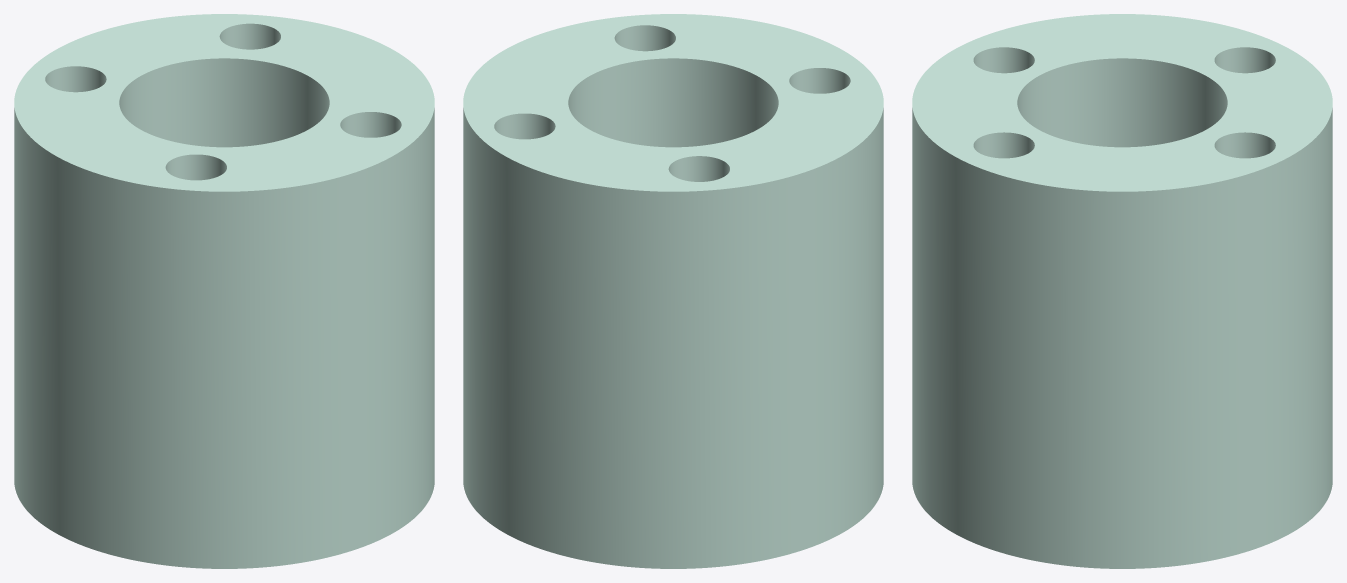
3 views of the same model, side by side, from view 1: azimuth 30°, elevation 25°; view 2: azimuth 150°, elevation 25°; view 3: azimuth 270°, elevation 25° (orthographic).
Visible parts, largest first — view 1: Renderer Node; view 2: Renderer Node; view 3: Renderer Node.
Part boxes in pixels (box(x1,y1,x2,y2)): Renderer Node: box(14, 14, 434, 568); Renderer Node: box(463, 14, 883, 568); Renderer Node: box(912, 14, 1332, 568).
Size of the model in its own units: 0.7577 by 0.75 by 0.7579.
